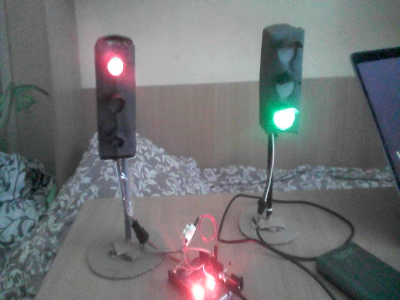trafficlight_green: (269, 31, 301, 133)
trafficlight_red: (95, 41, 136, 156)
